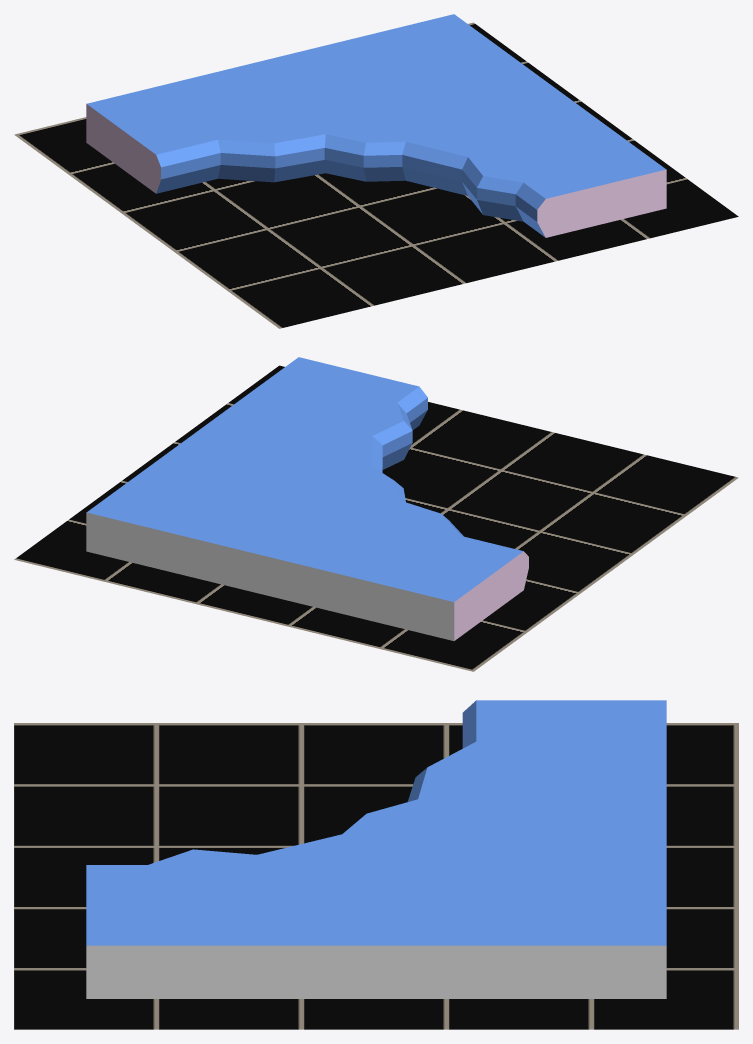
File: Iceberg_Curve_Inner_4x4_1.glb
The picture shows the model from 3 angles, top to bottom: view 1: azimuth 30°, elevation 25°; view 2: azimuth 150°, elevation 25°; view 3: azimuth 270°, elevation 25°; orthographic projection. The views are drawn at different scales.
Visible parts, largest first — view 1: Iceberg_Curve_Inner_4x4_1, Floor; view 2: Iceberg_Curve_Inner_4x4_1, Floor; view 3: Iceberg_Curve_Inner_4x4_1, Floor.
Part boxes in pixels (x1=…): Iceberg_Curve_Inner_4x4_1: x1=86, y1=14, x2=666, y2=237; Floor: x1=14, y1=22, x2=738, y2=328; Iceberg_Curve_Inner_4x4_1: x1=86, y1=357, x2=528, y2=640; Floor: x1=14, y1=365, x2=738, y2=671; Iceberg_Curve_Inner_4x4_1: x1=86, y1=700, x2=666, y2=998; Floor: x1=14, y1=723, x2=738, y2=1029.
Bounding box in the file's own units: 500 × 40.63 × 500.
4 materials, 1 textured.
